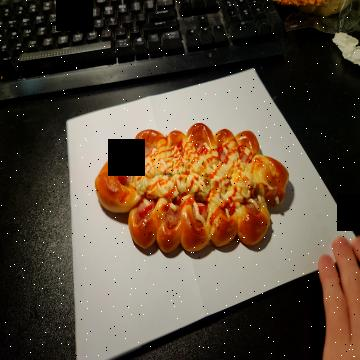pizza_bread: (96, 123, 290, 256)
